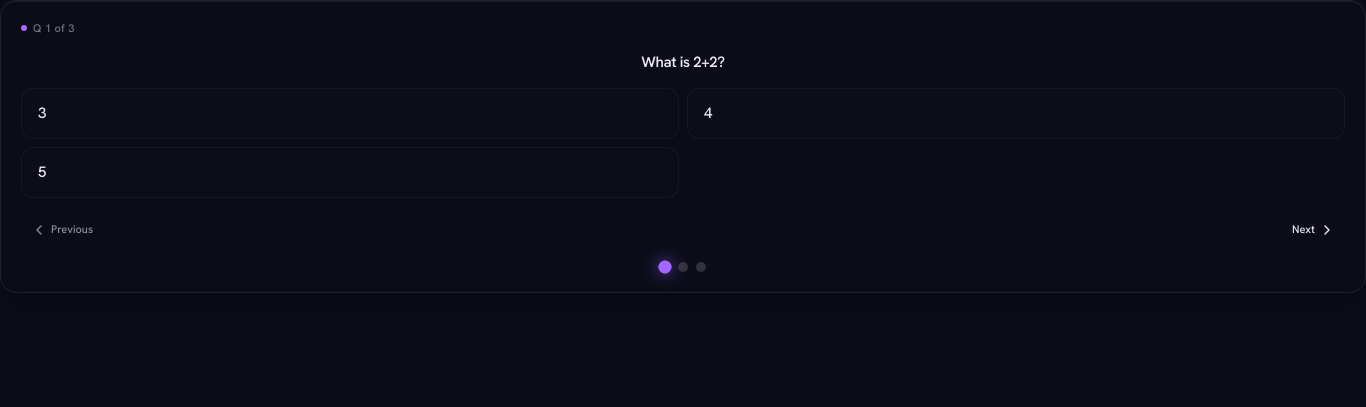
Test: QuizArena › should increment streak counter on consecutive correct answers
Click the button "4" at x=708, y=113, box [687,88,1345,139]
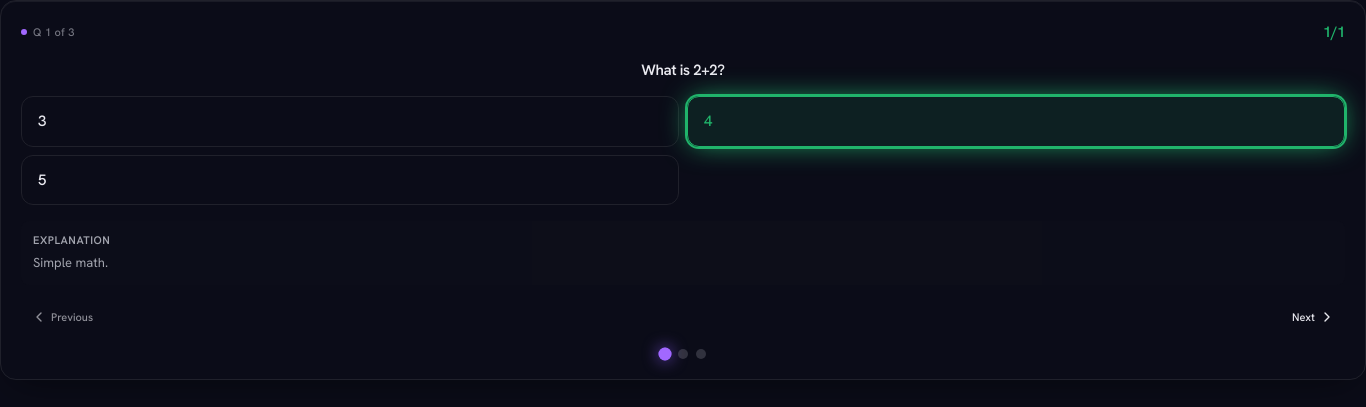
Check: the text "streak!" is not shown
// Move to Q2
Click the button "Next" at x=1314, y=317, box [1282,301,1345,333]
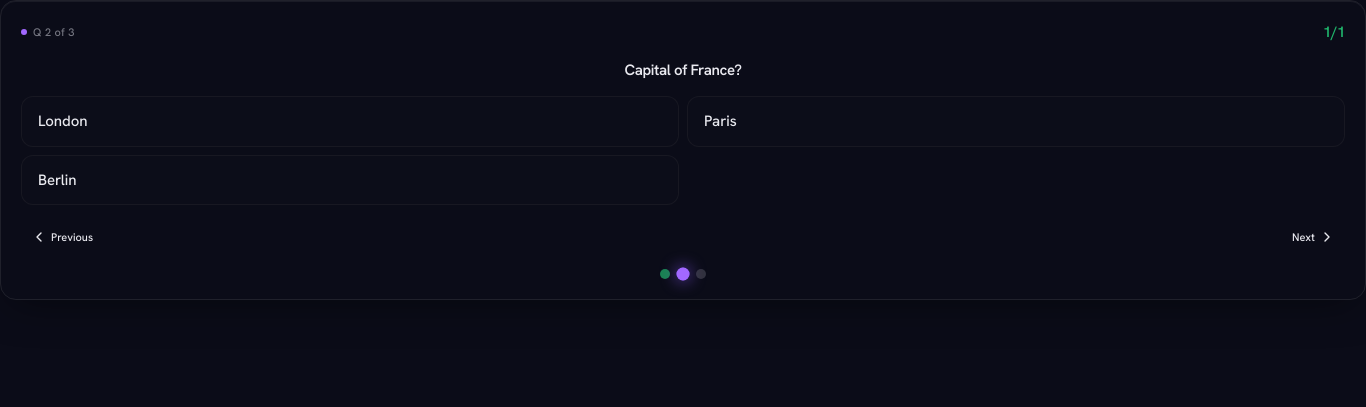
Click the button "Paris" at x=720, y=121, box [687,96,1345,147]
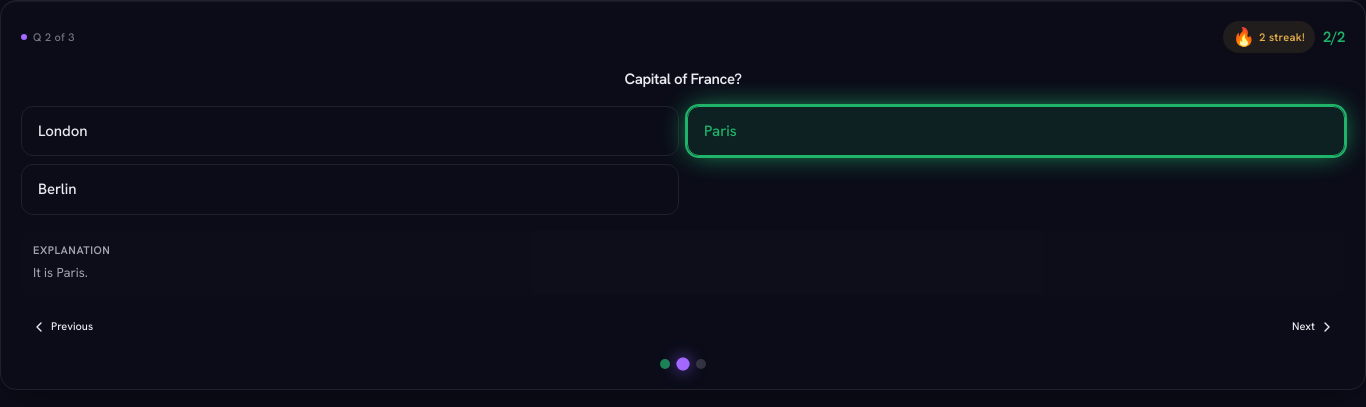
Check: the text "🔥 2 streak!" is shown, box [1223,21,1315,53]
